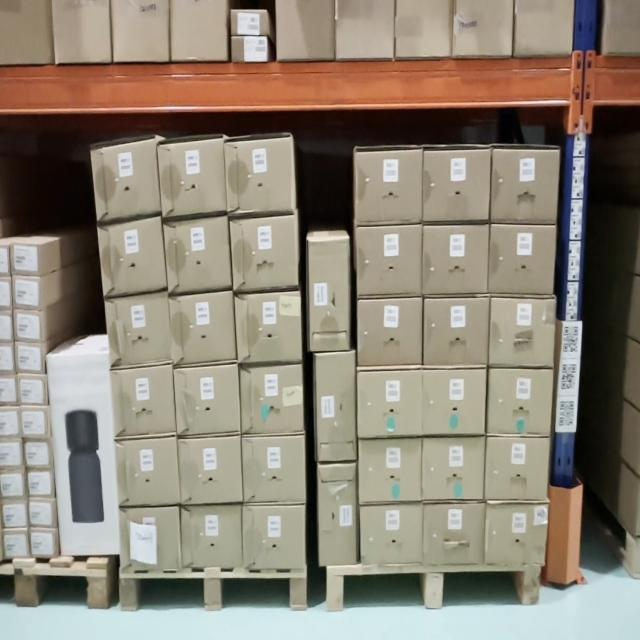box: (45, 355, 119, 555), (96, 217, 169, 297), (167, 288, 239, 368), (162, 214, 235, 292), (225, 140, 295, 220), (420, 150, 493, 226), (357, 142, 419, 231), (93, 144, 161, 221), (173, 435, 243, 509), (229, 216, 298, 291), (157, 141, 225, 216), (311, 235, 353, 356), (108, 289, 171, 369), (174, 363, 241, 434), (356, 224, 421, 296), (115, 369, 180, 439), (492, 297, 558, 365), (113, 437, 181, 503), (488, 225, 556, 290), (425, 300, 489, 368), (423, 228, 488, 292), (358, 300, 423, 364), (239, 294, 303, 357), (117, 509, 182, 571), (498, 156, 560, 220), (316, 467, 356, 565), (359, 436, 422, 498), (247, 435, 305, 502), (179, 508, 241, 569), (245, 508, 305, 571), (318, 356, 354, 460), (423, 440, 487, 498), (427, 371, 482, 438), (423, 504, 485, 563), (489, 440, 547, 502), (240, 369, 302, 427), (359, 375, 418, 435), (362, 505, 422, 563), (488, 505, 546, 563), (493, 374, 548, 433), (18, 376, 46, 404), (30, 529, 58, 556), (14, 312, 41, 340), (13, 284, 42, 309), (2, 501, 30, 526), (28, 470, 52, 498), (29, 500, 55, 525), (26, 442, 51, 468), (16, 349, 42, 374), (0, 532, 29, 554), (22, 411, 47, 436), (15, 249, 38, 275), (0, 474, 23, 499), (0, 440, 21, 466)
